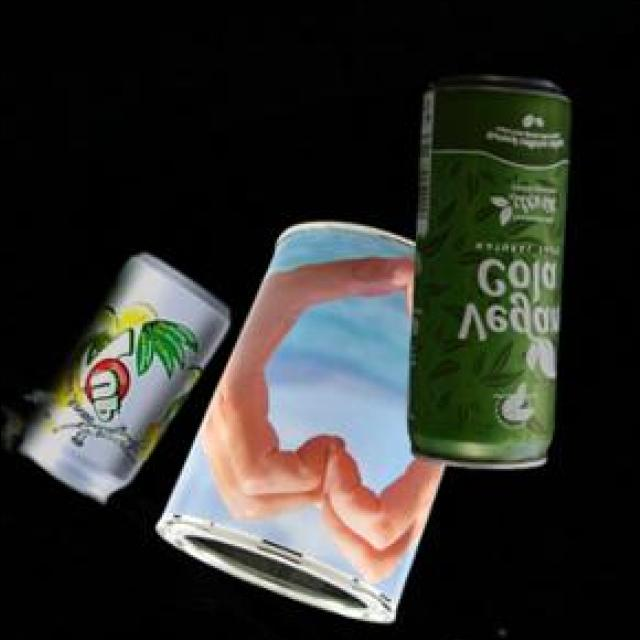logam: (158, 217, 447, 617), (412, 72, 573, 465), (28, 250, 231, 498)
